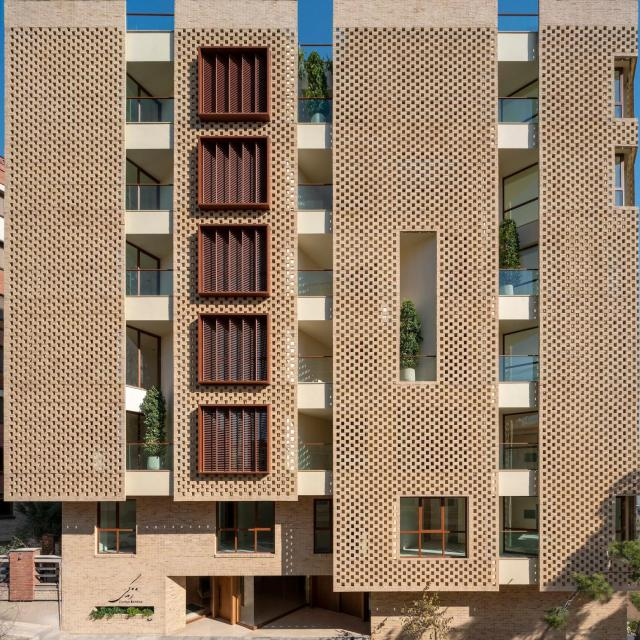railing: (123, 441, 172, 471), (124, 184, 173, 211), (126, 270, 175, 297), (127, 95, 173, 122), (498, 442, 538, 470), (500, 268, 538, 296), (501, 529, 537, 557), (501, 356, 538, 383), (500, 98, 538, 123), (296, 443, 331, 469), (296, 355, 332, 380), (297, 183, 333, 208), (298, 97, 334, 122), (400, 356, 436, 380), (297, 269, 333, 293)
window: (400, 495, 468, 559), (219, 502, 275, 553), (501, 161, 540, 225), (125, 323, 161, 392), (184, 576, 236, 623), (97, 498, 135, 555), (504, 409, 539, 443), (504, 496, 539, 528), (504, 324, 541, 354), (125, 240, 160, 270), (126, 157, 160, 184), (315, 502, 333, 553), (610, 67, 625, 119), (614, 154, 625, 208), (125, 74, 151, 95)
